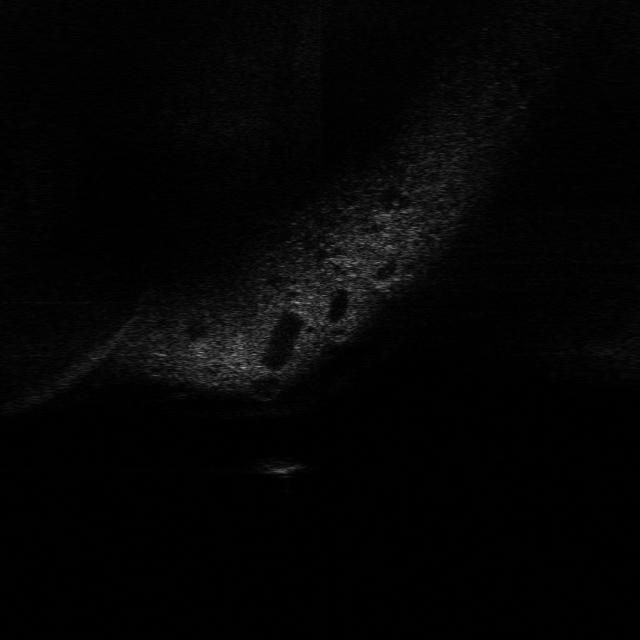ball: (320, 322, 356, 346)
cube: (250, 452, 306, 480)
